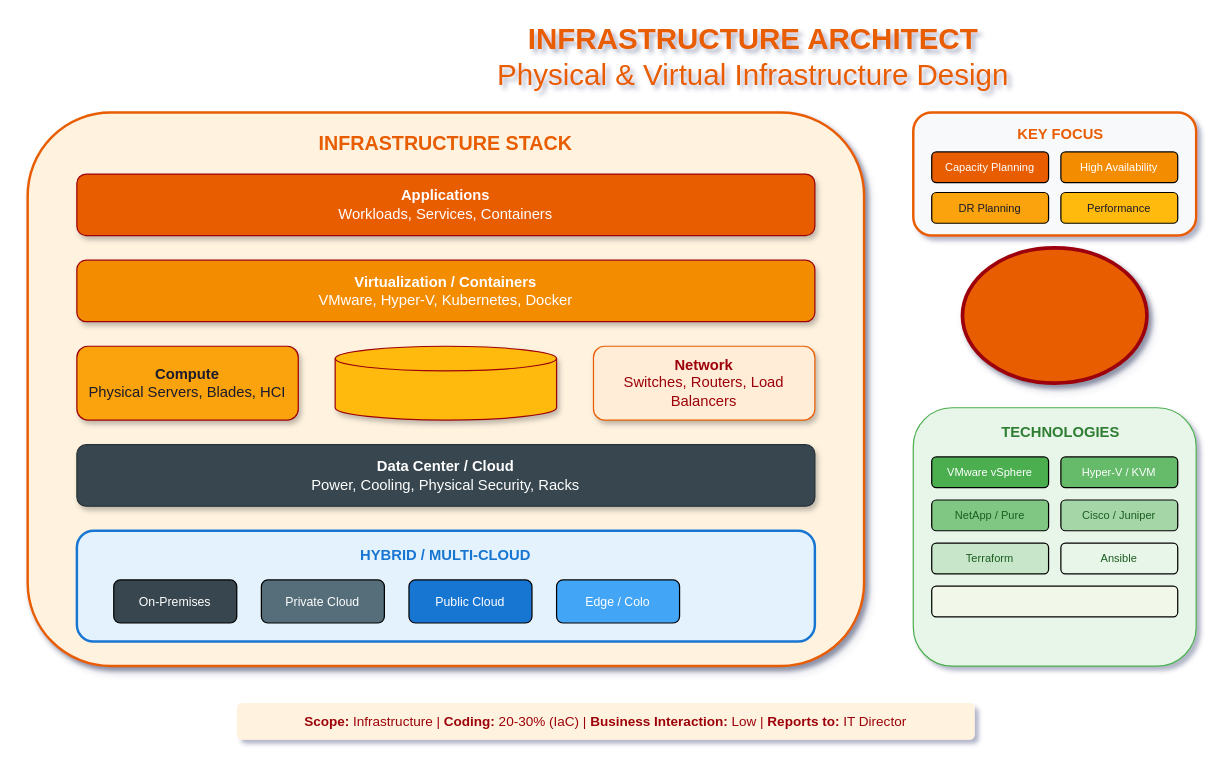
This 1225x768 diagram has some shape labels left out. The shapes that lost their labels are listed below. From the top down, each one's centre as x and y in pixels, then its label:
pixel 1055 316: INFRASTRUCTURE ARCHITECT Design • Capacity Reliability • Scale
pixel 446 384: Storage SAN, NAS, Object Storage
pixel 1054 601: Monitoring: Prometheus, Grafana, Nagios
